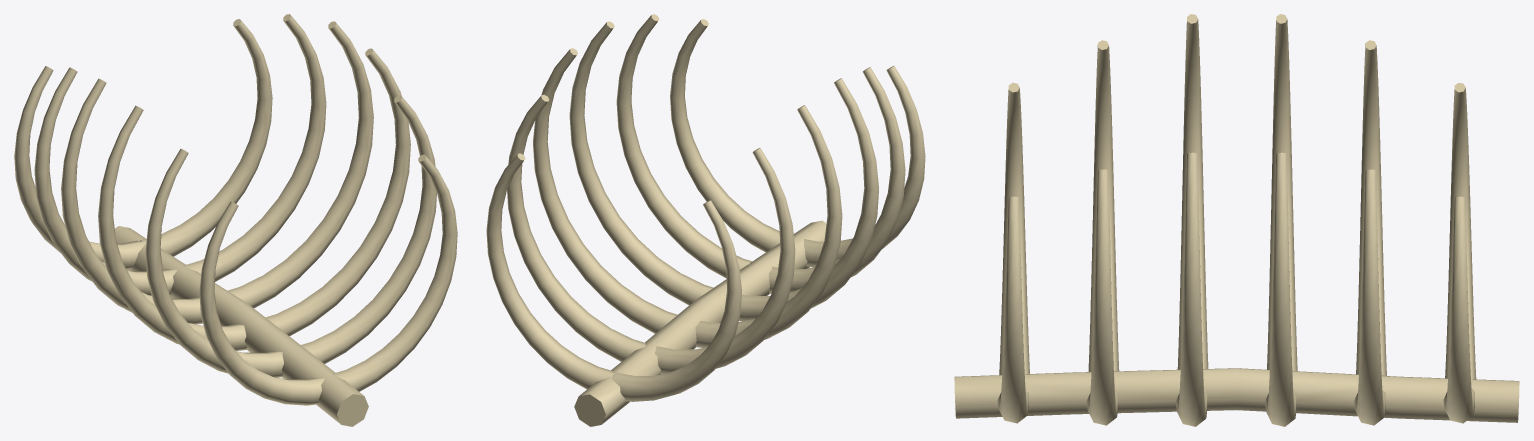
Rendered from SM_BoneRibs.glb.
3 views of the same model, side by side, from view 1: azimuth 30°, elevation 25°; view 2: azimuth 150°, elevation 25°; view 3: azimuth 270°, elevation 25° (orthographic). The views are drawn at different scales.
Visible parts, largest first — view 1: SM_BoneRibs; view 2: SM_BoneRibs; view 3: SM_BoneRibs.
Part boxes in pixels (x1,y1,x2,y2): SM_BoneRibs: [14, 14, 457, 426]; SM_BoneRibs: [486, 14, 925, 426]; SM_BoneRibs: [954, 14, 1519, 426].
Bounding box in the file's own units: 1.84 × 1.59 × 2.41.
Materials: 1 (1 with a texture image).
